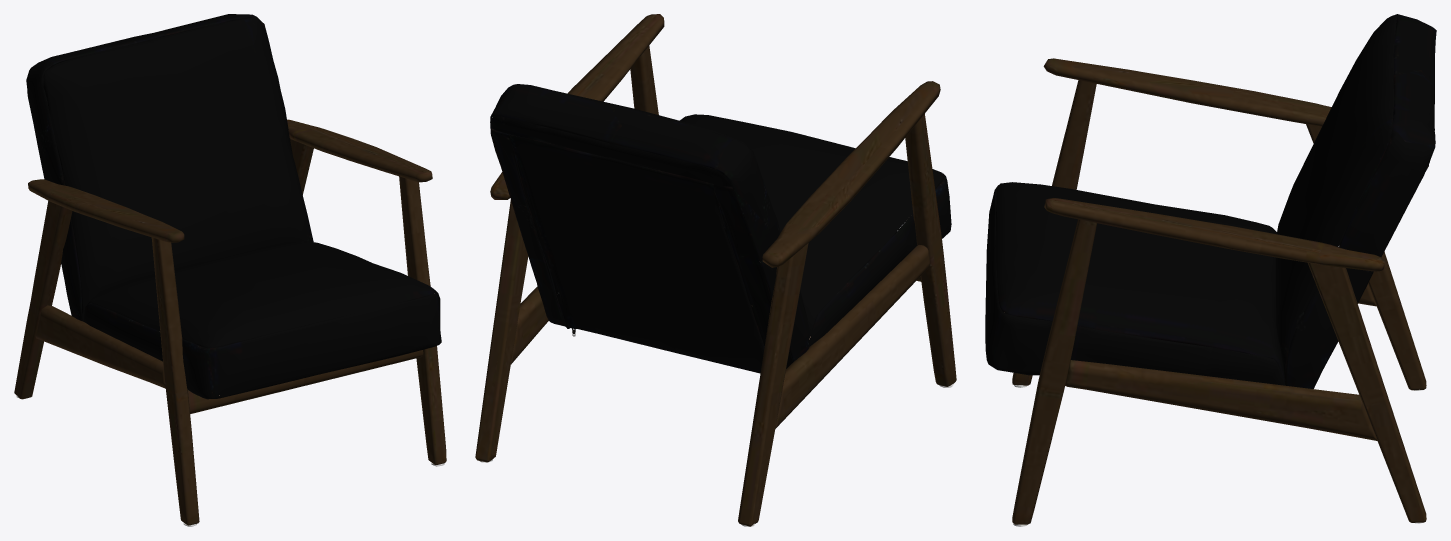
Rendered from 36 - EKENÄSET Armchair - Jonsbyn black.glb.
3 views of the same model, side by side, from view 1: azimuth 30°, elevation 25°; view 2: azimuth 150°, elevation 25°; view 3: azimuth 270°, elevation 25° (orthographic). The views are drawn at different scales.
Parts seen in each view (by area): view 1: model; view 2: model; view 3: model.
Part boxes in pixels (x1,y1,x2,y2): model: [14, 14, 446, 526]; model: [475, 14, 956, 526]; model: [985, 14, 1436, 526].
Bounding box in the file's own units: 0.6484 × 0.7552 × 0.7964.
Materials: 1 (1 with a texture image).
